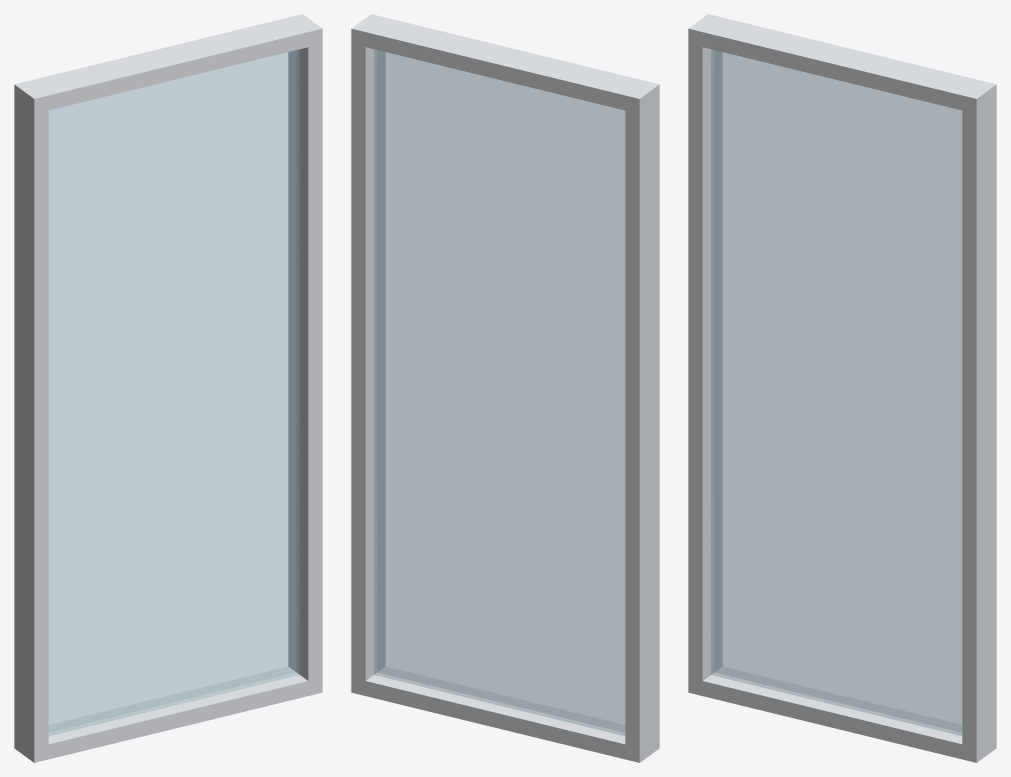
The picture shows the model from 3 angles, left to right: view 1: azimuth 30°, elevation 25°; view 2: azimuth 150°, elevation 25°; view 3: azimuth 330°, elevation 25°; orthographic projection.
Parts seen in each view (by area): view 1: glass, frame (×4); view 2: glass, frame (×4); view 3: glass, frame (×4).
Part boxes in pixels (left/top/right/bottom): glass: left=48, top=49, right=299, bottom=735; frame (×4): left=14, top=14, right=322, bottom=762; glass: left=374, top=49, right=625, bottom=735; frame (×4): left=351, top=14, right=659, bottom=762; glass: left=711, top=49, right=962, bottom=735; frame (×4): left=688, top=14, right=996, bottom=762.
Size of the model in its own units: 1 by 2.2 by 0.12.
